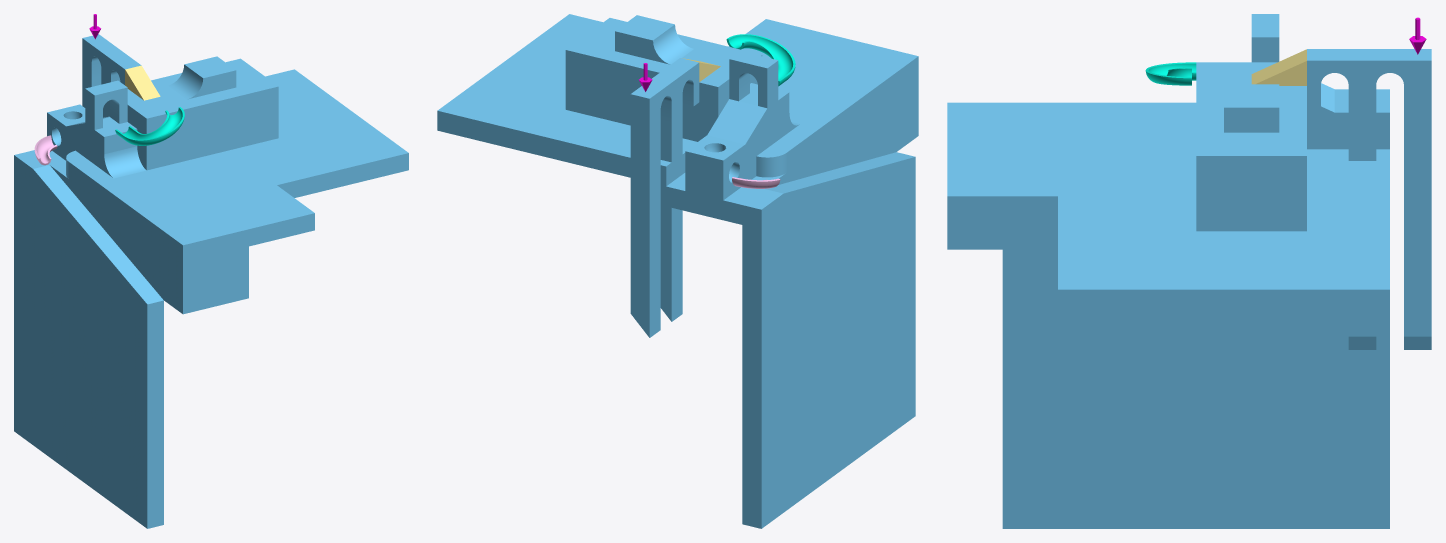
The model's file is level_landing.glb.
The picture shows the model from 3 angles, left to right: view 1: azimuth 30°, elevation 25°; view 2: azimuth 150°, elevation 25°; view 3: azimuth 270°, elevation 25°; orthographic projection. The views are drawn at different scales.
Parts seen in each view (by area): view 1: block_4x4x1__20_, block_4x4x1__52_, block_1x1x1__8_, block_1x1x1, block_4x4x4, block_1x1x1__7_, block_4x1x1, block_4x4x1__17_, arch, block_2x2x1, ramp_1x4x1__2_, ramp_1x4x1 (+9 smaller); view 2: block_4x4x1__52_, block_4x4x1__20_, block_4x1x1, block_1x1x1, block_1x1x1__7_, block_1x1x1__8_, block_4x4x4, arch_pillar, arch_pillar__1_, hole1, arch, block_4x4x1__17_ (+14 smaller); view 3: block_4x4x1__52_, block_1x1x1__8_, block_1x1x1, block_1x1x1__7_, block_4x4x1__20_, block_4x4x4, block_4x1x1, block_4x4x1__17_, arch_pillar, block_1x1x1_1, arch_offset, arch_offset__1_ (+7 smaller).
Part boxes in pixels (box(x1,y1,x2,y2)): block_4x4x1__20_: box(68, 157, 248, 314); block_4x4x1__52_: box(163, 69, 408, 201); block_1x1x1__8_: box(109, 277, 163, 528); block_1x1x1: box(33, 186, 71, 472); block_4x4x4: box(108, 58, 278, 170); block_1x1x1__7_: box(71, 232, 109, 500); block_4x1x1: box(14, 151, 48, 444); block_4x4x1__17_: box(211, 185, 314, 246); arch: box(85, 80, 127, 129); block_2x2x1: box(85, 117, 137, 171); ramp_1x4x1__2_: box(109, 255, 163, 304); ramp_1x4x1: box(33, 165, 87, 213); block_4x4x1__52_: box(437, 14, 797, 186); block_4x4x1__20_: box(768, 37, 918, 182); block_4x1x1: box(742, 189, 783, 528); block_1x1x1: box(783, 181, 827, 512); block_1x1x1__7_: box(827, 169, 871, 479); block_1x1x1__8_: box(871, 157, 915, 447); block_4x4x4: box(565, 18, 762, 141); arch_pillar: box(630, 131, 660, 337); arch_pillar__1_: box(660, 115, 682, 321); hole1: box(685, 135, 745, 200); arch: box(729, 51, 778, 108); block_4x4x1__17_: box(728, 19, 841, 69); block_4x4x1__52_: box(1058, 149, 1389, 314); block_1x1x1__8_: box(1002, 249, 1113, 528); block_1x1x1: box(1224, 315, 1334, 528); block_1x1x1__7_: box(1113, 315, 1223, 528); block_4x4x1__20_: box(947, 102, 1196, 249); block_4x4x4: box(1196, 62, 1306, 231); block_4x1x1: box(1334, 315, 1389, 528); block_4x4x1__17_: box(947, 149, 1057, 221); arch_pillar: box(1404, 111, 1431, 349); block_1x1x1_1: box(1224, 84, 1279, 132); arch_offset: box(1307, 49, 1362, 110); arch_offset__1_: box(1362, 49, 1417, 110).
Bounding box in the file's own units: 17 × 22.44 × 17.5.
